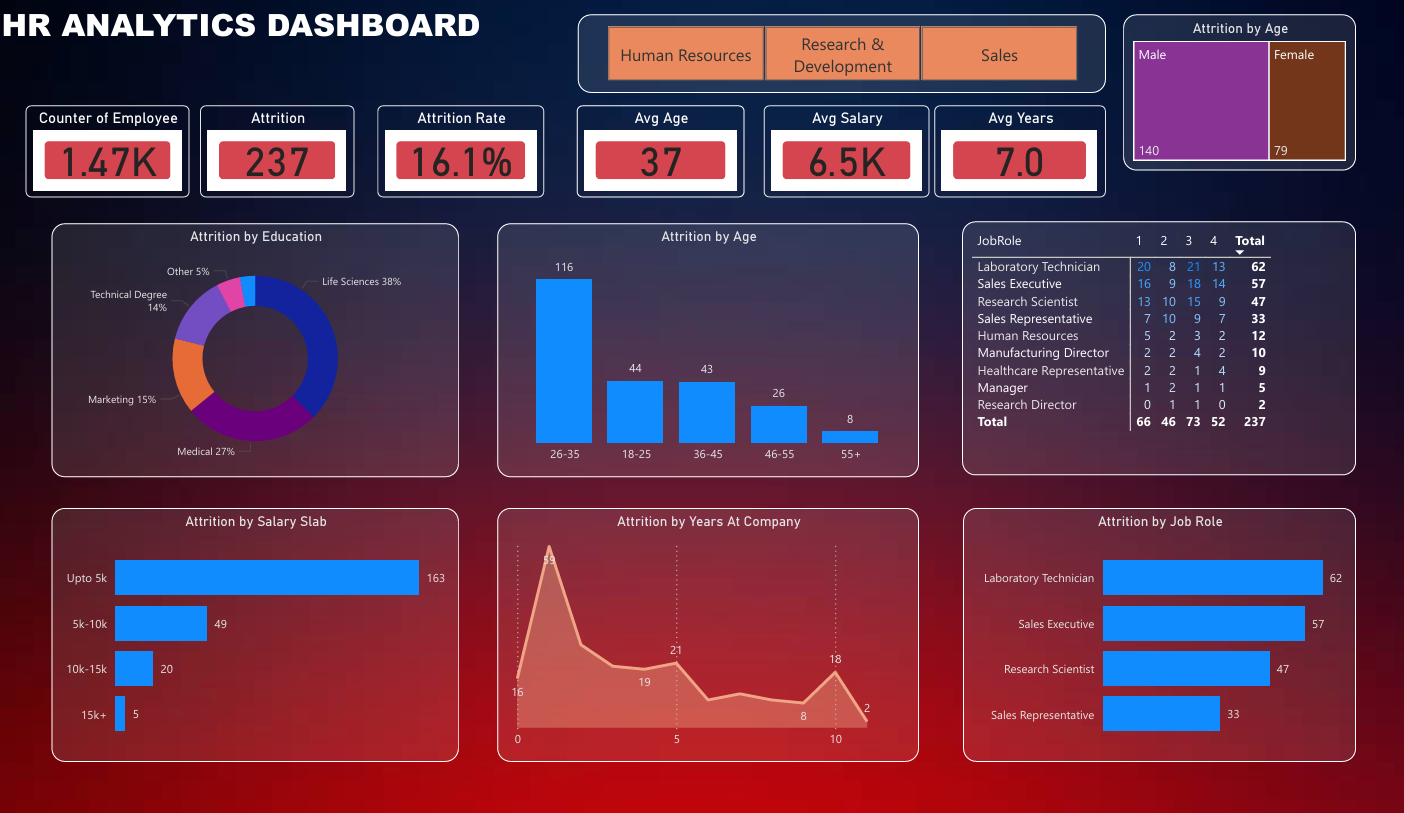

The dashboard page shown, as its layout file describes it:
{"tool":"powerbi","page":{"name":"Page 1","canvas":[1468,850],"ordinal":0},"visuals":[{"type":"cardVisual","title":"Counter of Employee","fields":{"Data":["CountNonNull(HR_Analytics.EmpID)"]},"box":[30,111.7,171,96.7],"z":0},{"type":"cardVisual","title":"Attrition","fields":{"Data":["Sum(HR_Analytics.AttritionCount)"]},"box":[211.7,111.7,161.7,96.7],"z":1000},{"type":"cardVisual","title":"Attrition Rate","fields":{"Data":["HR_Analytics.AttritionRate"]},"box":[396.7,111.7,174,96.7],"z":2000},{"type":"cardVisual","title":"Avg Age","fields":{"Data":["Avg(HR_Analytics.Age)"]},"box":[605,111.7,175,96.7],"z":3000},{"type":"cardVisual","title":"Avg Salary","fields":{"Data":["Avg(HR_Analytics.MonthlyIncome)"]},"box":[800,111.7,173.3,96.7],"z":4000},{"type":"cardVisual","title":"Avg Years","fields":{"Data":["Avg(HR_Analytics.YearsAtCompany)"]},"box":[978.3,111.7,178.3,96.7],"z":5000},{"type":"donutChart","title":"Attrition by Education","fields":{"Category":["HR_Analytics.EducationField"],"Y":["Sum(HR_Analytics.AttritionCount)"]},"box":[56.7,235,425,265],"z":6000},{"type":"columnChart","title":"Attrition by Age","fields":{"Category":["HR_Analytics.AgeGroup"],"Y":["Sum(HR_Analytics.AttritionCount)"]},"box":[521.7,235,440,265],"z":7000},{"type":"pivotTable","fields":{"Rows":["HR_Analytics.JobRole"],"Columns":["HR_Analytics.JobSatisfaction"],"Values":["Sum(HR_Analytics.AttritionCount)"]},"box":[1006.7,233.3,411.7,265],"z":8000},{"type":"barChart","title":"Attrition by Salary Slab","fields":{"Category":["HR_Analytics.SalarySlab"],"Y":["Sum(HR_Analytics.AttritionCount)"]},"box":[56.7,531.7,425,265],"z":9000},{"type":"barChart","title":"Attrition by Job Role","fields":{"Category":["HR_Analytics.JobRole"],"Y":["Sum(HR_Analytics.AttritionCount)"]},"box":[1008.3,531.7,410,265],"z":10000},{"type":"areaChart","title":"Attrition by Years At Company","fields":{"Category":["HR_Analytics.YearsAtCompany"],"Y":["Sum(HR_Analytics.AttritionCount)"]},"box":[521.7,531.7,440,265],"z":11000},{"type":"treemap","title":"Attrition by Age","fields":{"Group":["HR_Analytics.Gender"],"Values":["Sum(HR_Analytics.AttritionCount)"]},"box":[1175,16.7,243.3,163.3],"z":12000},{"type":"slicer","fields":{"Values":["HR_Analytics.Department"]},"box":[605.7,17.1,551.4,81.4],"z":13000},{"type":"textbox","box":[0,0,558.3,83.3],"z":14000}]}

Visuals, with their boxes in screenshot pixels (x1, y1, x2, y2), scaled from the page's 1468x850 canvas onto the 1404x813 screenshot:
"Counter of Employee" cardVisual: 29 107 192 199
"Attrition" cardVisual: 202 107 357 199
"Attrition Rate" cardVisual: 379 107 546 199
"Avg Age" cardVisual: 579 107 746 199
"Avg Salary" cardVisual: 765 107 931 199
"Avg Years" cardVisual: 936 107 1106 199
"Attrition by Education" donutChart: 54 225 461 478
"Attrition by Age" columnChart: 499 225 920 478
pivotTable - HR_Analytics.JobRole x HR_Analytics.JobSatisfaction: 963 223 1357 477
"Attrition by Salary Slab" barChart: 54 509 461 762
"Attrition by Job Role" barChart: 964 509 1356 762
"Attrition by Years At Company" areaChart: 499 509 920 762
"Attrition by Age" treemap: 1124 16 1356 172
slicer - HR_Analytics.Department: 579 16 1107 94
textbox: 0 0 534 80
